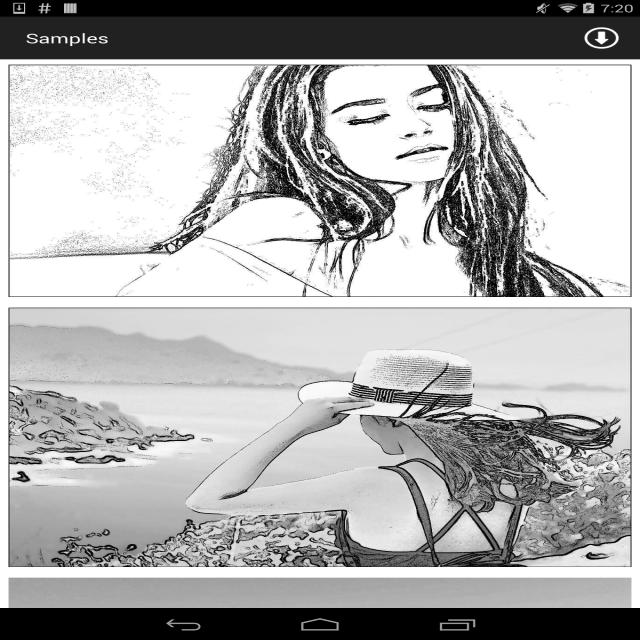ImageButton: (580, 25, 624, 51)
ImageView: (9, 307, 630, 565), (6, 63, 627, 295)
TextView: (21, 32, 112, 46)
